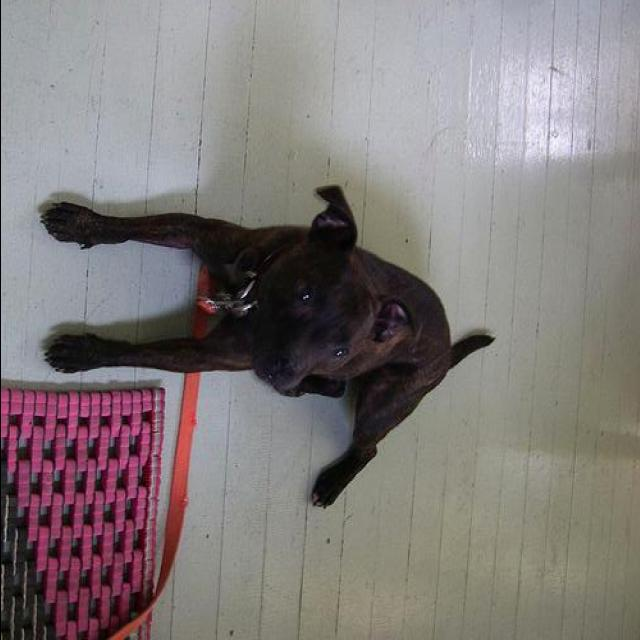staffordshire_bullterrier: (37, 180, 497, 512)
